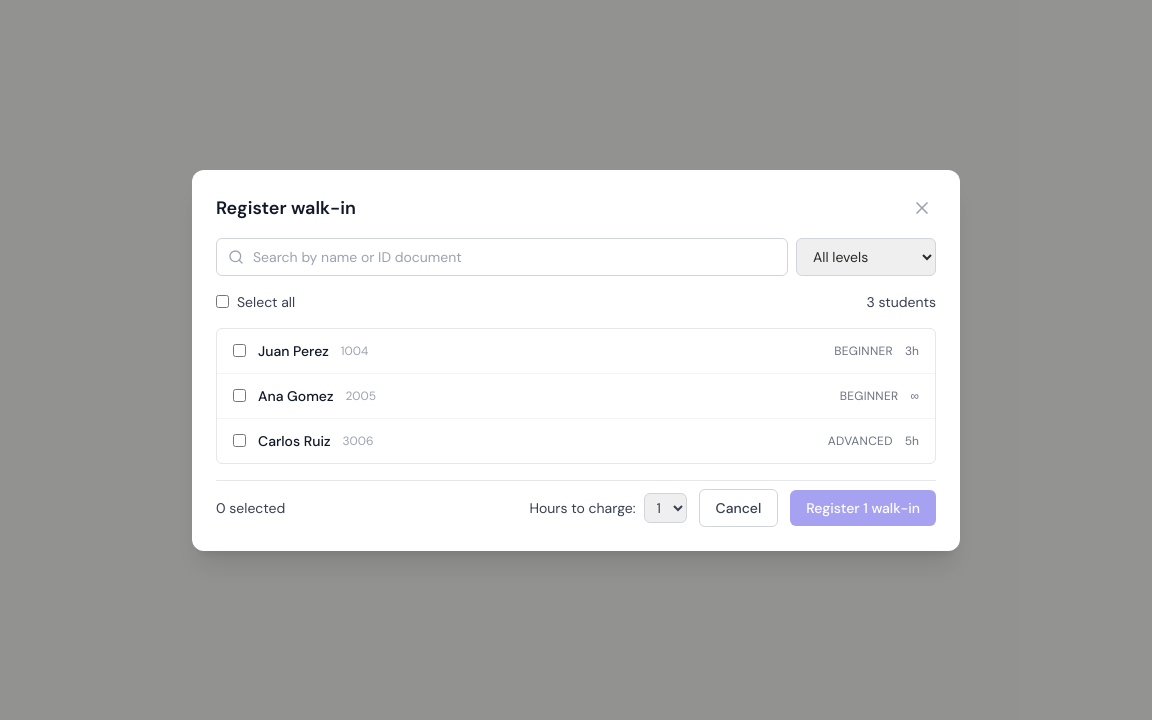
Test: WalkInModal › renders results panel with success and failure counts after submit
Click the text "Juan Perez".
click(293, 350)  # box [258,340,329,360]
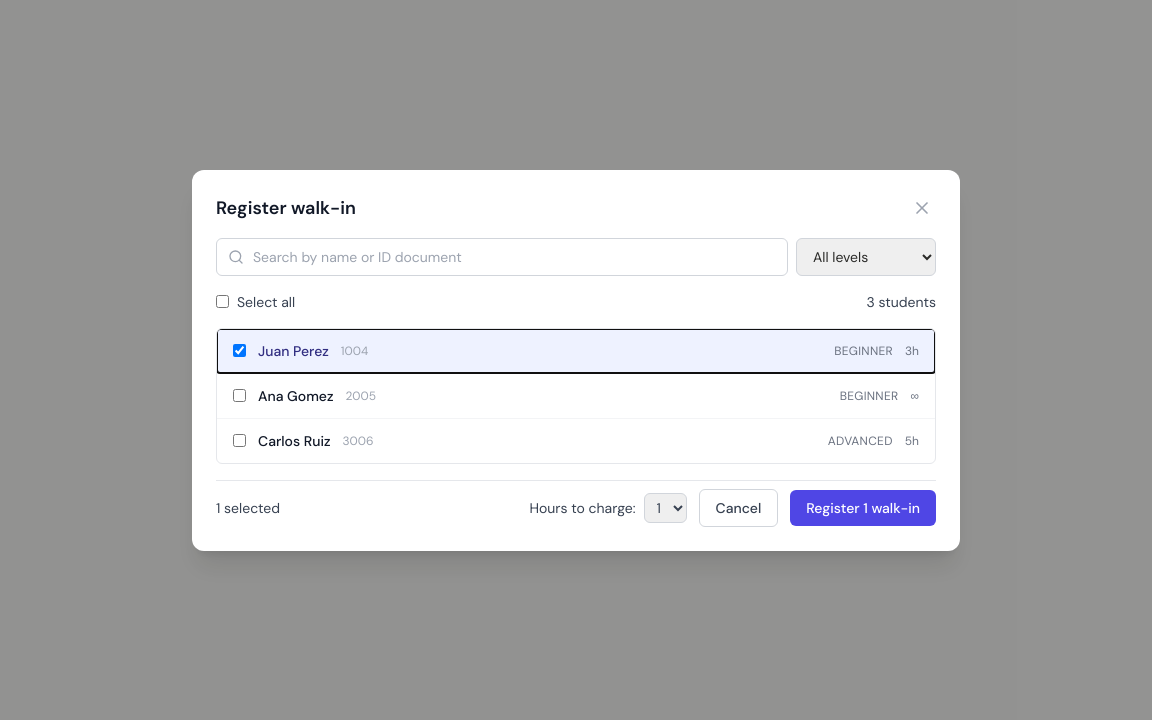
Click the text "Ana Gomez".
click(296, 396)  # box [258,386,334,406]
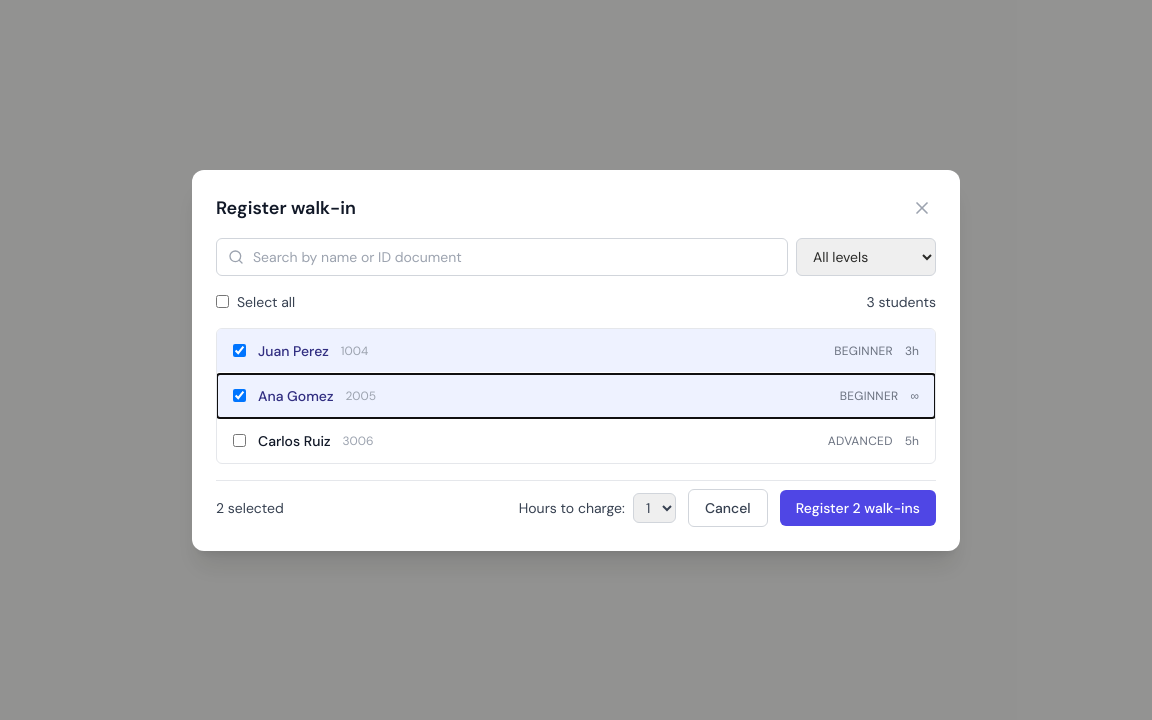
Click the button "Register 2 walk-ins".
click(858, 508)  # box [780,490,936,526]
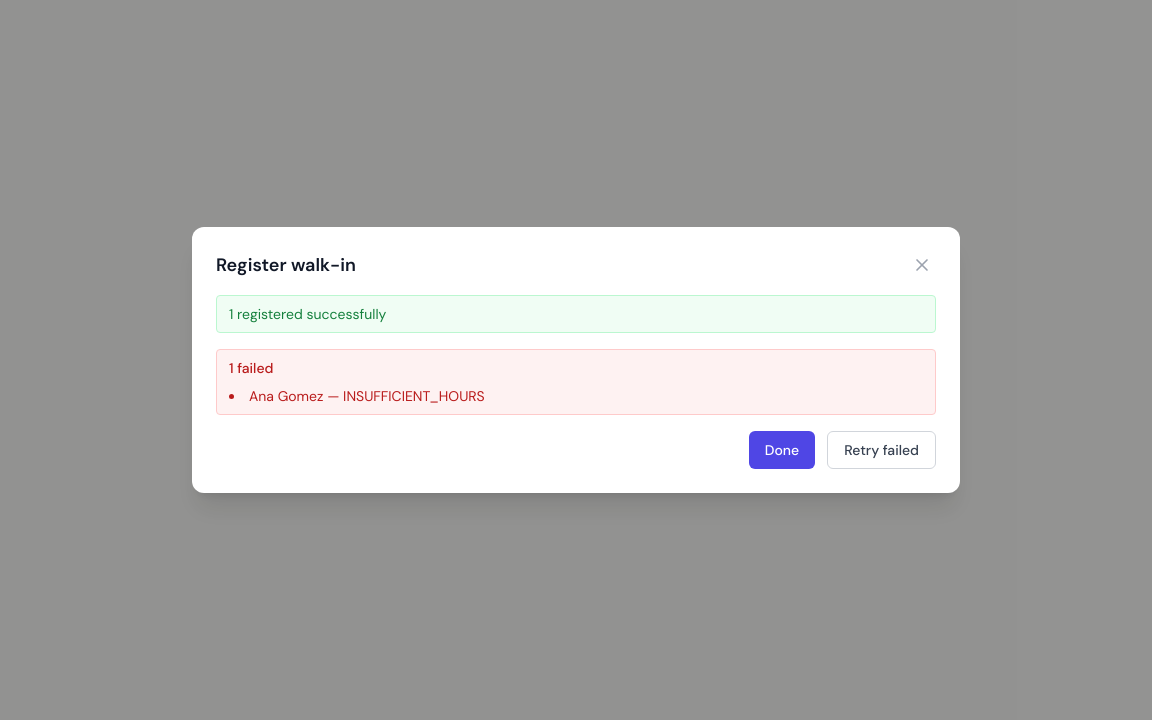
Now the text "1 registered successfully" is shown, box [216,295,936,333]
Now the text "1 failed" is shown, box [229,359,273,377]
